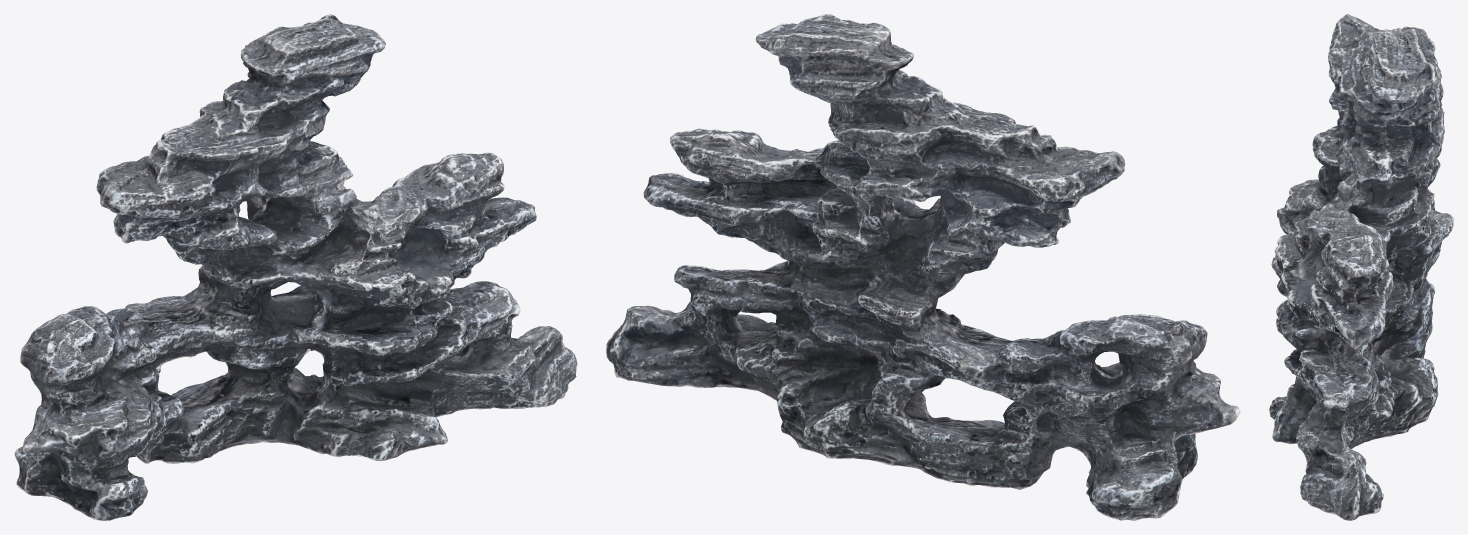
The model's file is rocks.gltf.
3 renders of one model, left to right at view 1: azimuth 30°, elevation 25°; view 2: azimuth 150°, elevation 25°; view 3: azimuth 270°, elevation 25°, orthographic. The views are drawn at different scales.
Visible parts, largest first — view 1: baked_mesh; view 2: baked_mesh; view 3: baked_mesh.
Part boxes in pixels (x1,y1,x2,y2): baked_mesh: (14, 14, 577, 520); baked_mesh: (606, 14, 1240, 520); baked_mesh: (1269, 14, 1453, 520).
Bounding box in the file's own units: 0.2692 × 0.1754 × 0.0794.
Materials: 1 (1 with a texture image).
